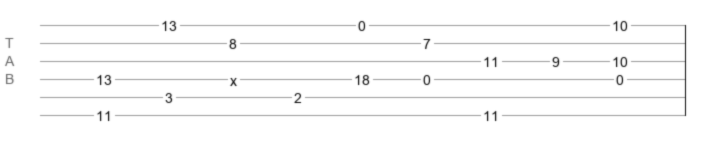0: (358, 18, 366, 28), (423, 72, 431, 82), (616, 72, 624, 82)
10: (612, 54, 628, 64), (612, 18, 628, 28)
11: (96, 108, 112, 118), (483, 108, 499, 118), (483, 54, 499, 64)
13: (96, 72, 112, 82), (161, 18, 177, 28)
18: (354, 72, 370, 82)
2: (294, 90, 302, 100)
3: (165, 90, 173, 100)
7: (423, 36, 431, 46)
8: (229, 36, 237, 46)
9: (552, 54, 560, 64)
x: (230, 73, 237, 81)
